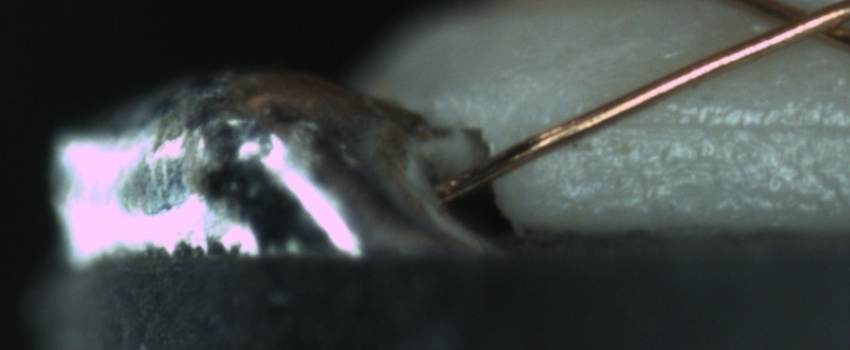CL: (753, 1, 847, 48)
DL: (575, 92, 843, 158)
